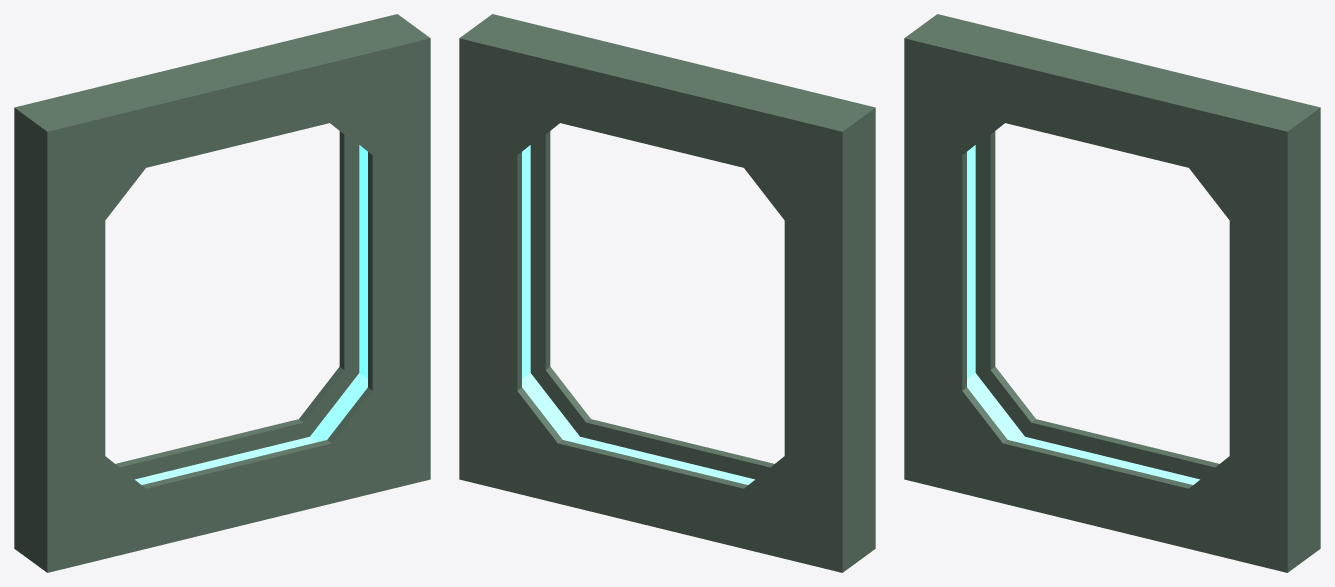
File: W2_WallWindow1A_2m.fbx
3 renders of one model, left to right at view 1: azimuth 30°, elevation 25°; view 2: azimuth 150°, elevation 25°; view 3: azimuth 330°, elevation 25°, orthographic.
Parts seen in each view (by area): view 1: W2_WallWindow1A_2m.001; view 2: W2_WallWindow1A_2m.001; view 3: W2_WallWindow1A_2m.001.
Boxes of the visible parts, box(x1,y1,x2,y2) form: W2_WallWindow1A_2m.001: box(14, 14, 430, 572); W2_WallWindow1A_2m.001: box(459, 14, 875, 572); W2_WallWindow1A_2m.001: box(904, 14, 1320, 572).
Size of the model in its own units: 2 by 2.2 by 0.3.
